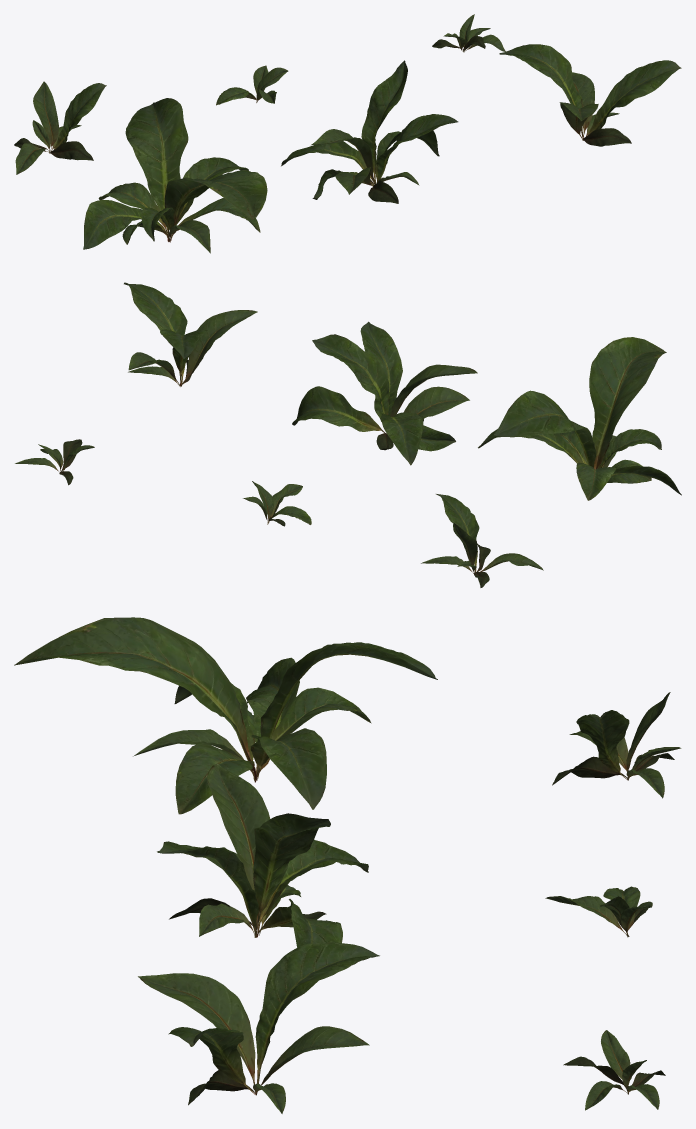
File: anthurium.glb
3 renders of one model, top to bottom at view 1: azimuth 30°, elevation 25°; view 2: azimuth 150°, elevation 25°; view 3: azimuth 270°, elevation 25°, orthographic. The views are drawn at different scales.
Parts seen in each view (by area): view 1: anthurium_botany_01_a, anthurium_botany_01_b, anthurium_botany_01_c, anthurium_botany_04_d, anthurium_botany_05_e, anthurium_botany_06_f; view 2: anthurium_botany_01_a, anthurium_botany_01_b, anthurium_botany_01_c, anthurium_botany_04_d, anthurium_botany_05_e, anthurium_botany_06_f; view 3: anthurium_botany_01_a, anthurium_botany_01_b, anthurium_botany_01_c, anthurium_botany_04_d, anthurium_botany_06_f, anthurium_botany_05_e.
Boxes of the visible parts, box(x1,y1,x2,y2) form: anthurium_botany_01_a: box(83, 98, 267, 253); anthurium_botany_01_b: box(281, 60, 458, 203); anthurium_botany_01_c: box(499, 44, 681, 146); anthurium_botany_04_d: box(14, 81, 106, 174); anthurium_botany_05_e: box(216, 65, 288, 105); anthurium_botany_06_f: box(432, 14, 505, 52); anthurium_botany_01_a: box(478, 337, 681, 500); anthurium_botany_01_b: box(292, 321, 477, 465); anthurium_botany_01_c: box(124, 282, 257, 386); anthurium_botany_04_d: box(421, 494, 543, 587); anthurium_botany_05_e: box(243, 481, 311, 526); anthurium_botany_06_f: box(15, 439, 94, 485); anthurium_botany_01_a: box(14, 617, 437, 814); anthurium_botany_01_b: box(157, 763, 368, 947); anthurium_botany_01_c: box(138, 942, 379, 1113); anthurium_botany_04_d: box(552, 692, 681, 798); anthurium_botany_06_f: box(563, 1030, 665, 1110); anthurium_botany_05_e: box(545, 886, 652, 937).
Size of the model in its own units: 2.8 by 0.4996 by 1.8.
1 material, 1 textured.
